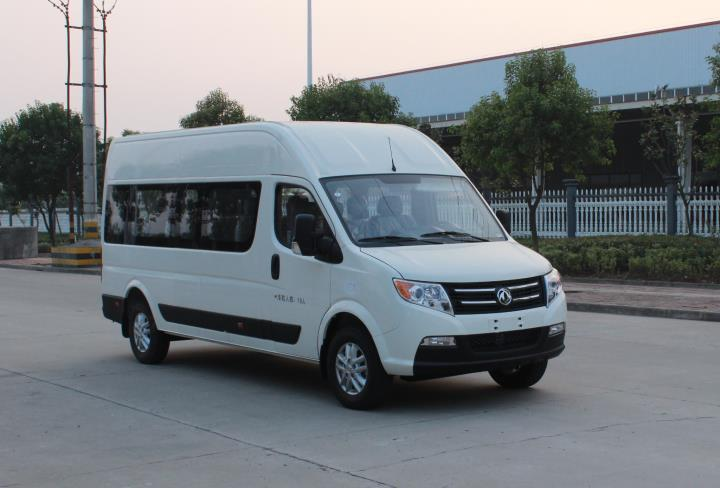midcar: (87, 97, 588, 428)
